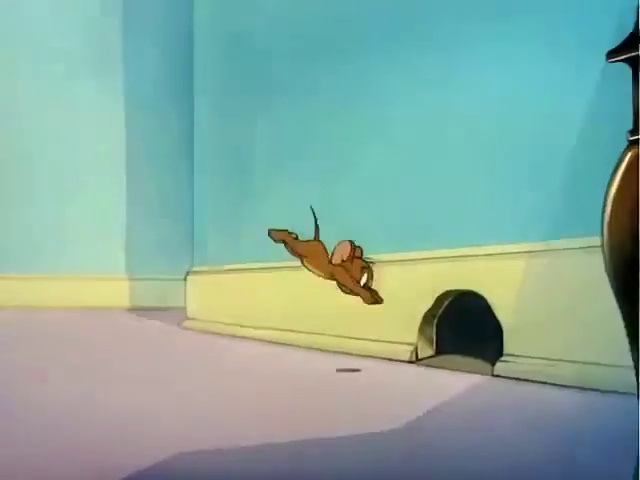jerry: (262, 202, 391, 330)
